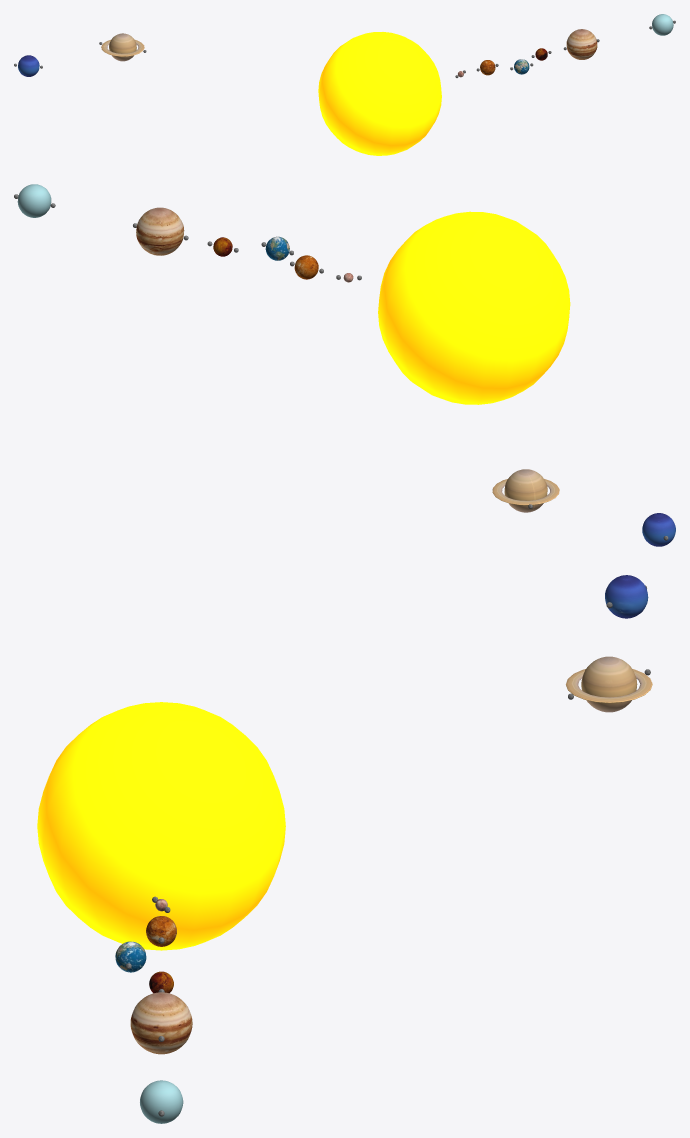
The model's file is solarsystem.glb.
3 renders of one model, top to bottom at view 1: azimuth 30°, elevation 25°; view 2: azimuth 150°, elevation 25°; view 3: azimuth 270°, elevation 25°, orthographic. The views are drawn at different scales.
Visible parts, largest first — view 1: sun_sun1_0, jupiter_jupiter1_0, saturn_saturn1_0, neptune_neptune1_0, uranus_uranus1_0, saturn_ring_saturn1_0; view 2: sun_sun1_0, jupiter_jupiter1_0, saturn_saturn1_0, uranus_uranus1_0, neptune_neptune1_0, saturn_ring_saturn1_0; view 3: sun_sun1_0, jupiter_jupiter1_0, saturn_saturn1_0, uranus_uranus1_0, neptune_neptune1_0, saturn_ring_saturn1_0.
Boxes of the visible parts, x1,y1,x2,y2 form: sun_sun1_0: (318,32,441,155); jupiter_jupiter1_0: (566,29,597,59); saturn_saturn1_0: (109,33,136,61); neptune_neptune1_0: (18,55,39,76); uranus_uranus1_0: (652,14,673,35); saturn_ring_saturn1_0: (101,40,144,56); sun_sun1_0: (378,211,570,404); jupiter_jupiter1_0: (136,207,184,255); saturn_saturn1_0: (504,469,547,512); uranus_uranus1_0: (17,184,51,217); neptune_neptune1_0: (642,513,675,546); saturn_ring_saturn1_0: (492,479,559,505); sun_sun1_0: (37,702,285,950); jupiter_jupiter1_0: (130,992,192,1054); saturn_saturn1_0: (581,656,637,712); uranus_uranus1_0: (140,1080,183,1123); neptune_neptune1_0: (605,575,648,618); saturn_ring_saturn1_0: (566,669,652,702).
Bounding box in the file's own units: 7.93 × 1.58 × 3.91.
10 materials, 9 textured.
